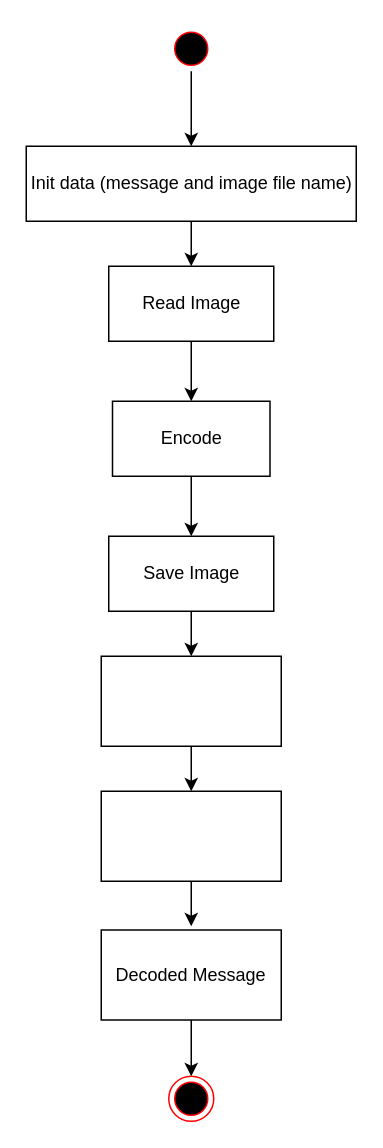
Image size: 383x1148. Some labels were removed from this diagram. The shapes that lost their labels are listed below. From the top down, each one's box as (x1, y1, x2, y2) in pixels, then its label:
(100, 655, 281, 746): Read encrypted Image
(100, 790, 281, 881): Decode
